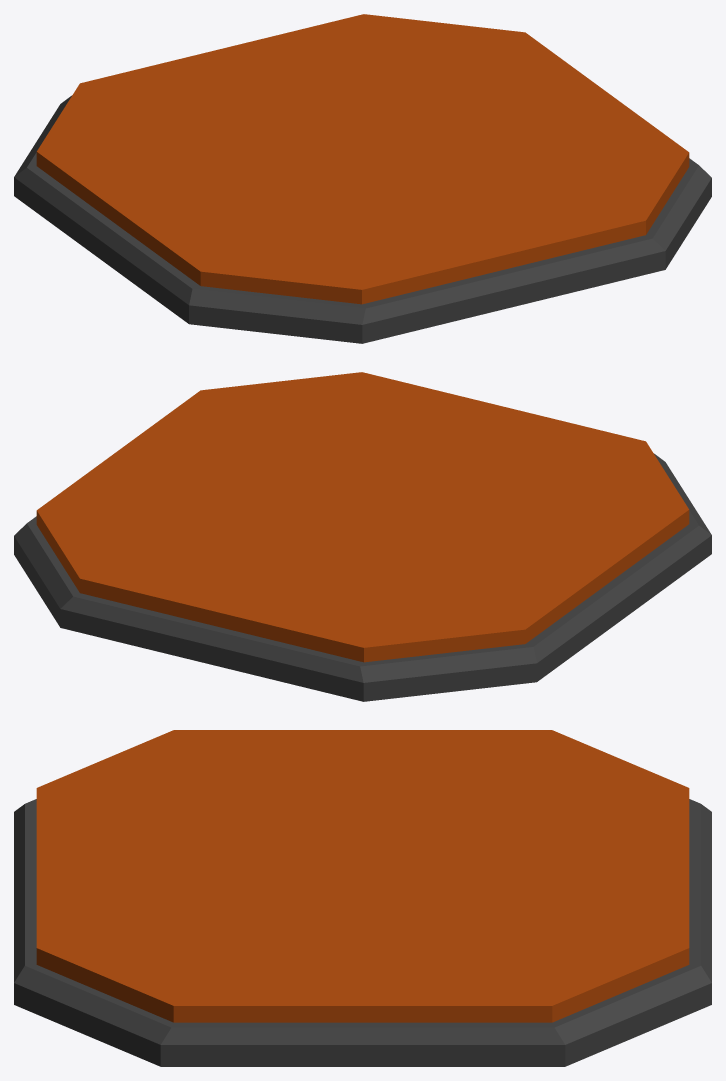
The model's file is Button.fbx.
The picture shows the model from 3 angles, top to bottom: view 1: azimuth 30°, elevation 25°; view 2: azimuth 150°, elevation 25°; view 3: azimuth 270°, elevation 25°; orthographic projection. The views are drawn at different scales.
Visible parts, largest first — view 1: Cube.002; view 2: Cube.002; view 3: Cube.002.
Part boxes in pixels (x1,y1,x2,y2): Cube.002: (14,14,711,343); Cube.002: (14,372,711,701); Cube.002: (14,730,711,1066).
Bounding box in the file's own units: 72.29 × 5.87 × 72.29.
